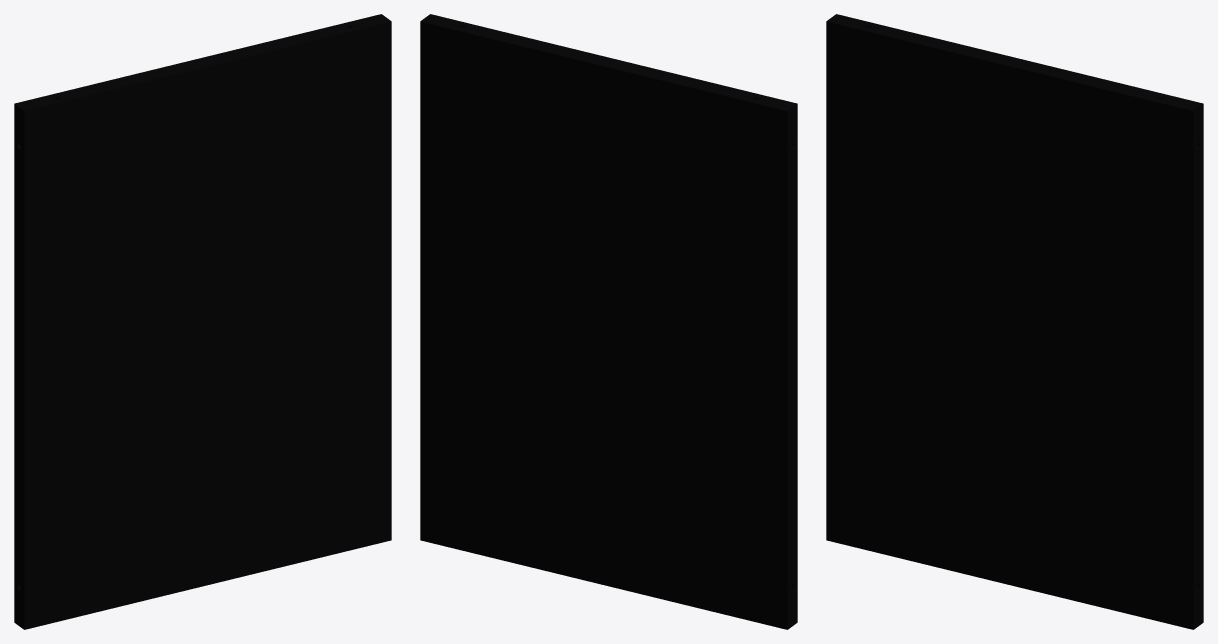
Rendered from Panel_415x560_UV.glb.
3 renders of one model, left to right at view 1: azimuth 30°, elevation 25°; view 2: azimuth 150°, elevation 25°; view 3: azimuth 330°, elevation 25°, orthographic.
Parts seen in each view (by area): view 1: Panel_415x560; view 2: Panel_415x560; view 3: Panel_415x560.
Part boxes in pixels (x1,y1,x2,y2): Panel_415x560: (14,14,391,629); Panel_415x560: (420,14,797,629); Panel_415x560: (826,14,1203,629).
Bounding box in the file's own units: 0.415 × 0.56 × 0.02.
1 material, 1 textured.
